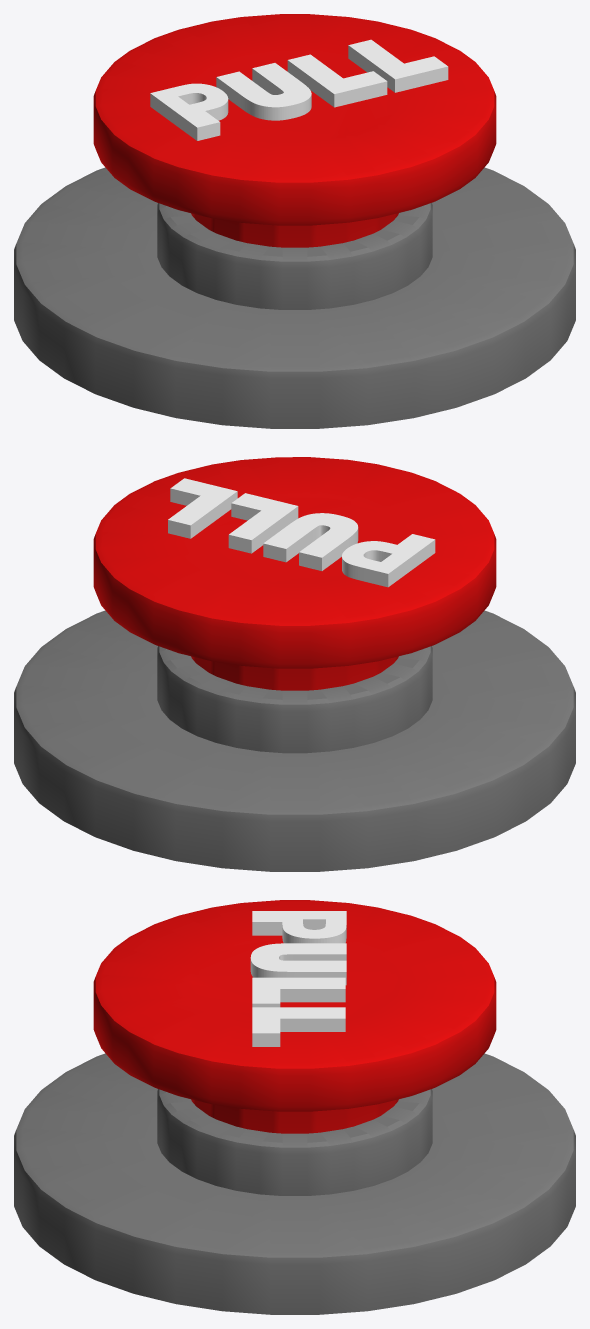
Rendered from button (1).fbx.
3 views of the same model, one above another, from view 1: azimuth 30°, elevation 25°; view 2: azimuth 150°, elevation 25°; view 3: azimuth 270°, elevation 25° (orthographic).
Visible parts, largest first — view 1: Cylinder001, Object001, Object002, Text002; view 2: Cylinder001, Object001, Object002, Text002; view 3: Cylinder001, Object001, Object002, Text002.
Part boxes in pixels (bbox=[...]): Cylinder001: bbox=[14, 167, 575, 428]; Object001: bbox=[93, 14, 496, 247]; Object002: bbox=[157, 203, 432, 309]; Text002: bbox=[150, 39, 448, 140]; Cylinder001: bbox=[14, 610, 575, 871]; Object001: bbox=[93, 457, 496, 690]; Object002: bbox=[157, 646, 432, 753]; Text002: bbox=[168, 478, 435, 587]; Cylinder001: bbox=[14, 1053, 575, 1314]; Object001: bbox=[93, 900, 496, 1133]; Object002: bbox=[157, 1089, 432, 1195]; Text002: bbox=[250, 911, 346, 1046].
Size of the model in its own units: 63.57 by 28.34 by 63.58.
